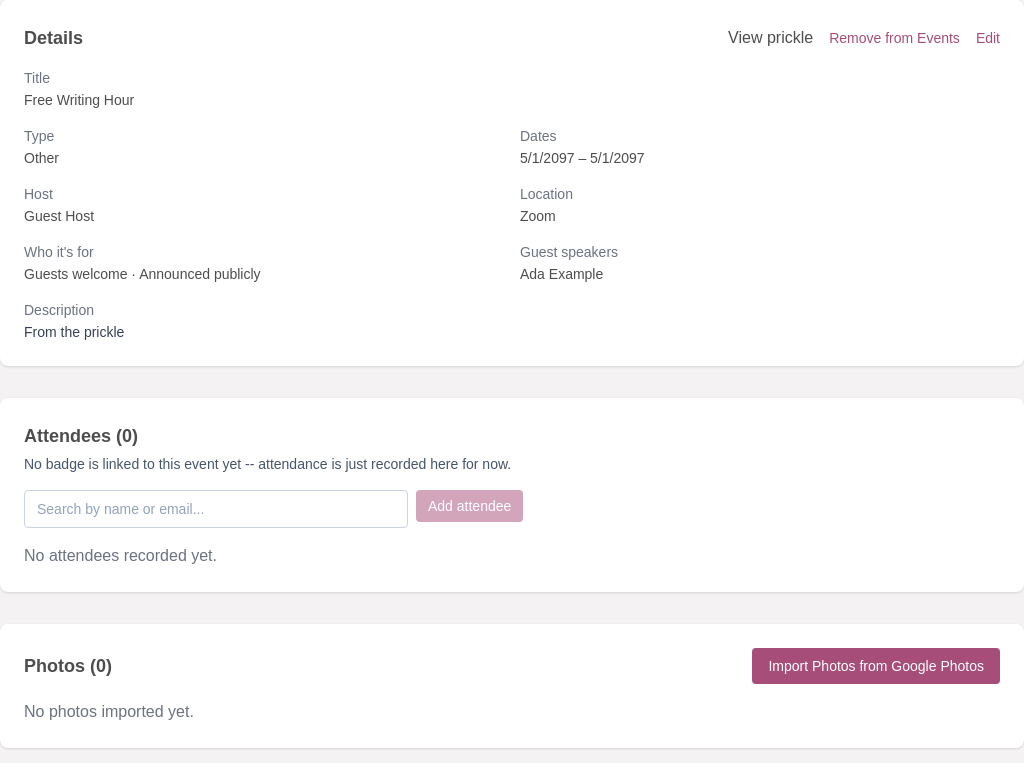
Test: admin event on a calendar prickle › offers a free-text host for a Hub event whose host is not a member
Click the button "Edit". click: (988, 38)
box: [976, 26, 1000, 50]
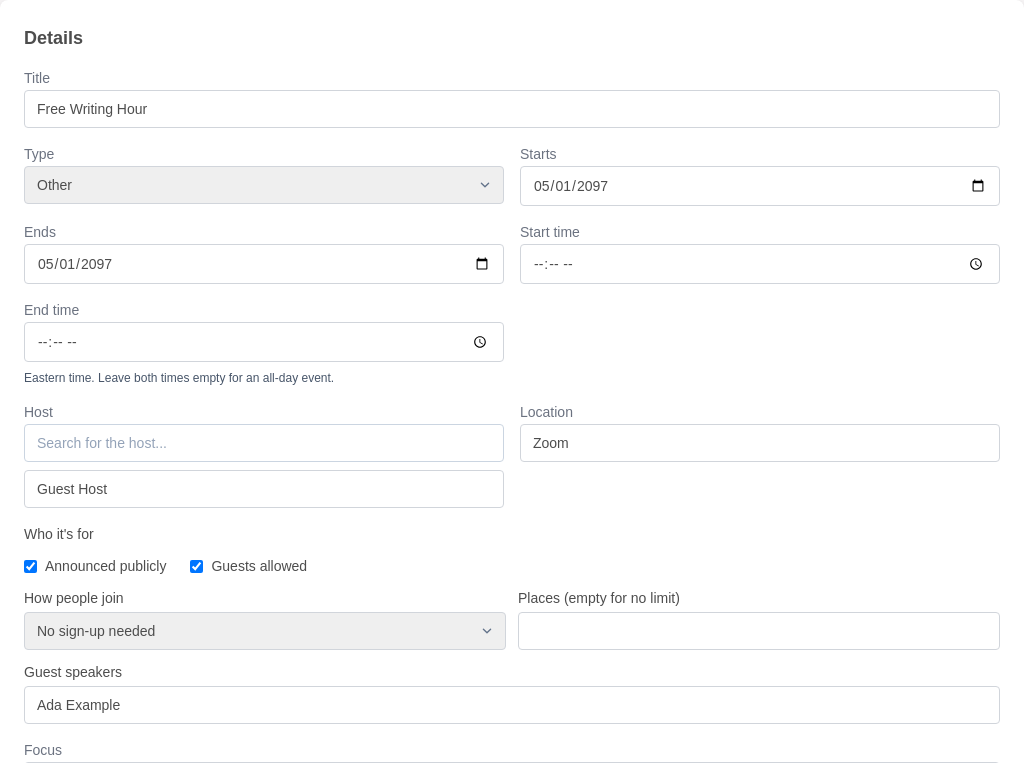
Now the field with placeholder "Or a host who isn't a member" holds "Guest Host", box [24, 470, 504, 508]
